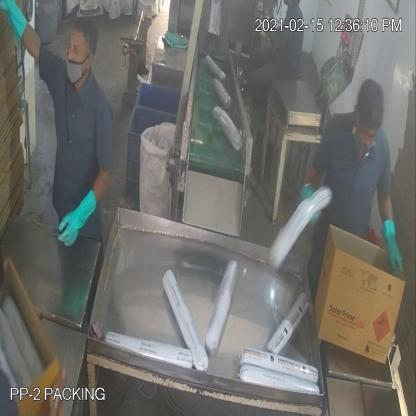glove: (51, 172, 103, 252), (377, 207, 411, 286)
